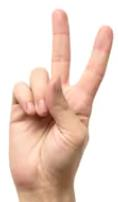front: (6, 6, 116, 182)
